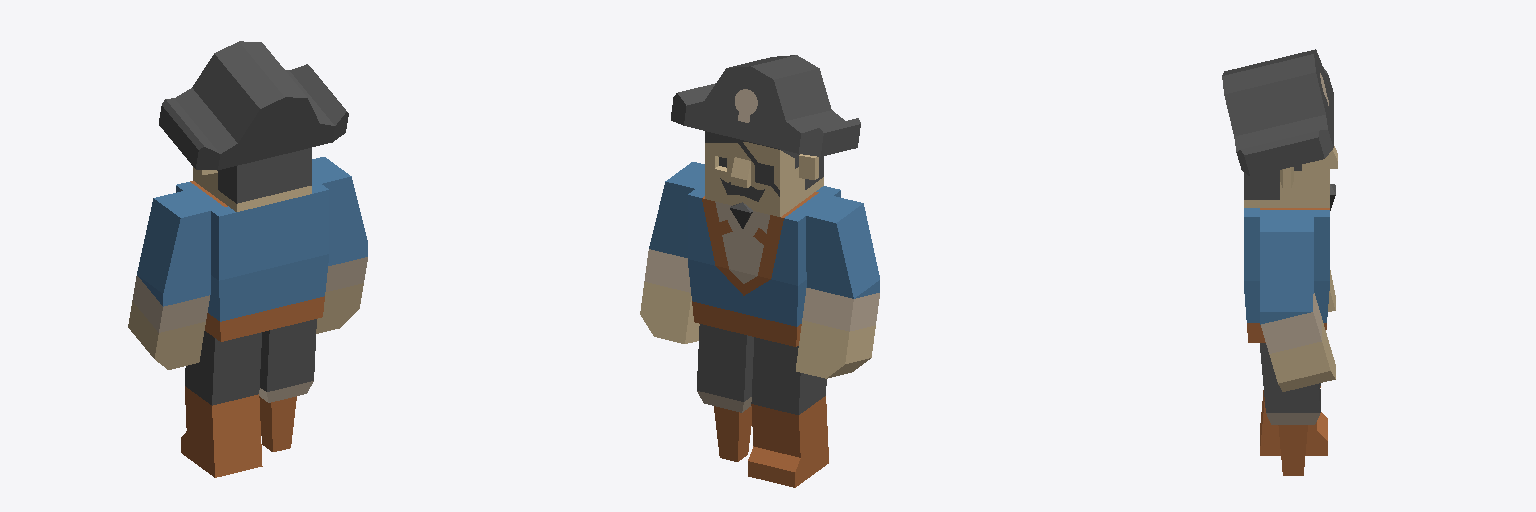
File: pirate_officer.obj
3 views of the same model, side by side, from view 1: azimuth 30°, elevation 25°; view 2: azimuth 150°, elevation 25°; view 3: azimuth 270°, elevation 25° (orthographic).
Parts seen in each view (by area): view 1: Group 85, body 2, armLeft 2, legLeft 2, armRight 2, legRight 2; view 2: Group 85, body 2, armLeft 2, legLeft 2, armRight 2, legRight 2; view 3: Group 85, armRight 2, body 2, legRight 2, legLeft 2.
Part boxes in pixels (x1,y1,x2,y2): Group 85: (159, 41, 348, 211); body 2: (176, 177, 328, 341); armLeft 2: (128, 191, 210, 369); legLeft 2: (181, 331, 262, 477); armRight 2: (312, 157, 367, 333); legRight 2: (259, 319, 316, 451); Group 85: (671, 55, 860, 228); body 2: (688, 182, 840, 346); armLeft 2: (796, 196, 879, 378); legLeft 2: (748, 337, 828, 487); armRight 2: (640, 162, 704, 343); legRight 2: (697, 324, 753, 461); Group 85: (1222, 49, 1337, 210); armRight 2: (1260, 217, 1335, 391); body 2: (1244, 208, 1329, 342); legRight 2: (1260, 343, 1320, 475); legLeft 2: (1260, 383, 1327, 455).
Size of the model in its own units: 6.24 by 11.75 by 3.05.